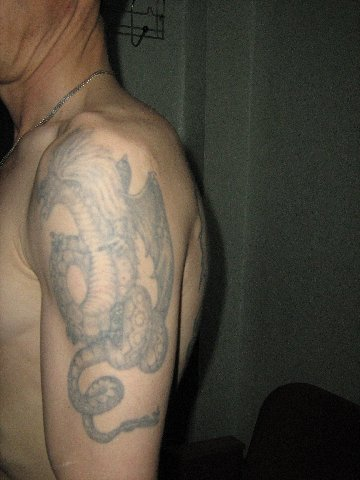tatu6_drakon: (28, 120, 173, 455)
